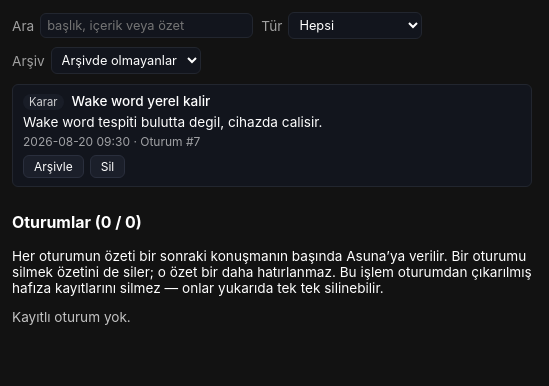
MemoryView — silme › silme hata verirse durustce soyler, kaydi ekrandan silmez
The image size is (549, 386).
Expected: the heading "Wake word yerel kalir" is shown, top-left (72, 93), bottom-right (210, 109)
What coordinates should you click on to do the following:
click the button with aria-label "Sil: Wake word yerel kalir"
I would click on:
 (108, 166)
Its box is top-left (90, 155), bottom-right (125, 178).
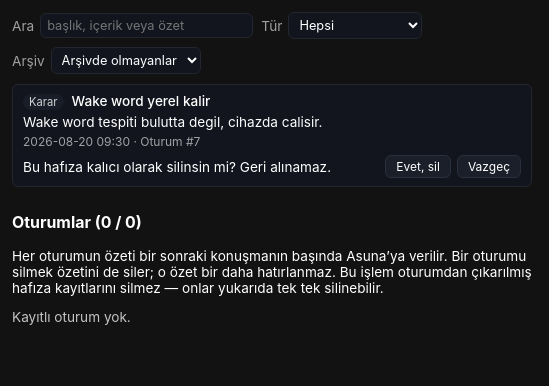
What coordinates should you click on to do the following:
click the button "Evet, sil"
I would click on:
 (418, 166)
Its box is top-left (385, 155), bottom-right (451, 178).
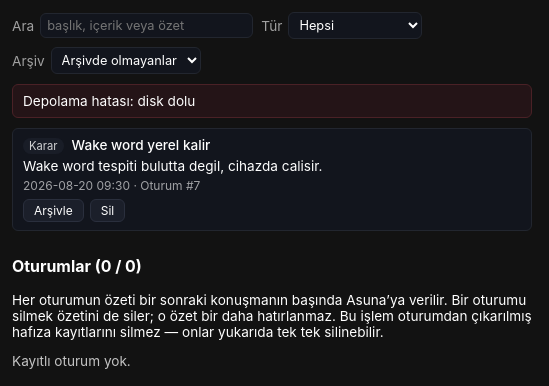
Expected: the heading "Wake word yerel kalir" is shown, top-left (72, 137), bottom-right (210, 153)
Now the text "Depolama hatası: disk dolu" is shown, box top-left (12, 84), bottom-right (532, 118)
